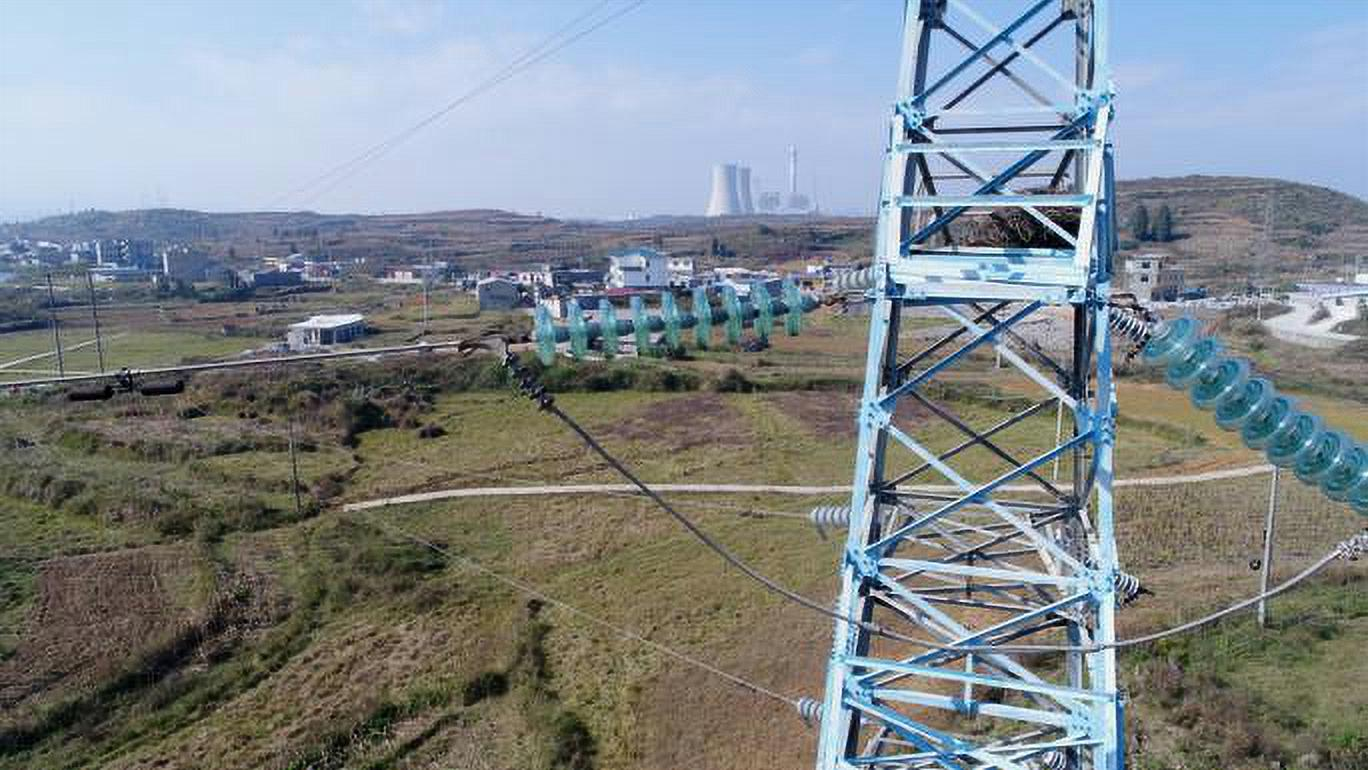insulator: (1137, 310, 1368, 524), (523, 269, 807, 370)
